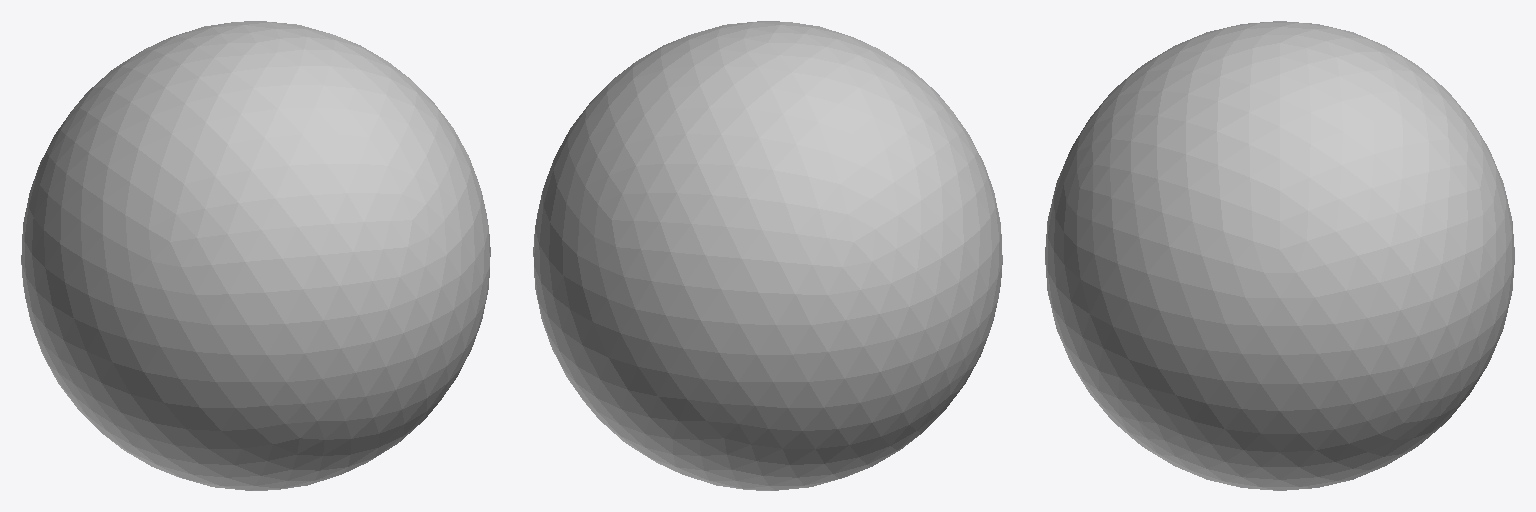
The model's file is Sphereout.obj.
3 renders of one model, left to right at view 1: azimuth 30°, elevation 25°; view 2: azimuth 150°, elevation 25°; view 3: azimuth 270°, elevation 25°, orthographic.
Bounding box in the file's own units: 2 × 2 × 2.